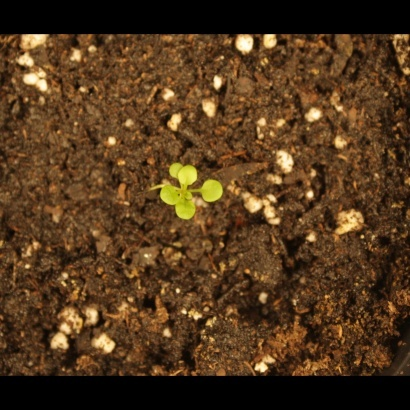leaf: (201, 175, 232, 205), (168, 199, 200, 222), (156, 157, 187, 180), (177, 162, 207, 185), (158, 185, 183, 208)
